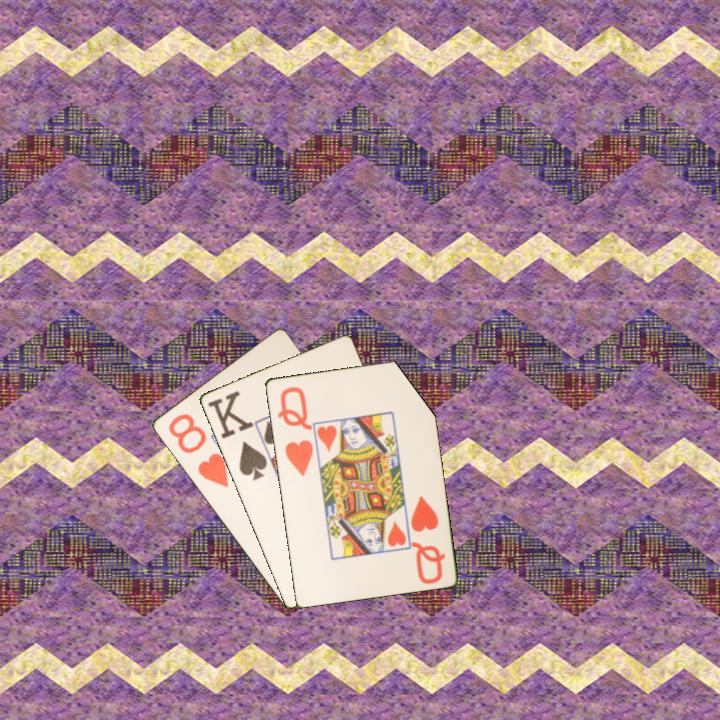8h: (164, 410, 231, 491)
Ks: (204, 387, 270, 484)
Qh: (274, 383, 316, 479), (407, 492, 448, 587)
